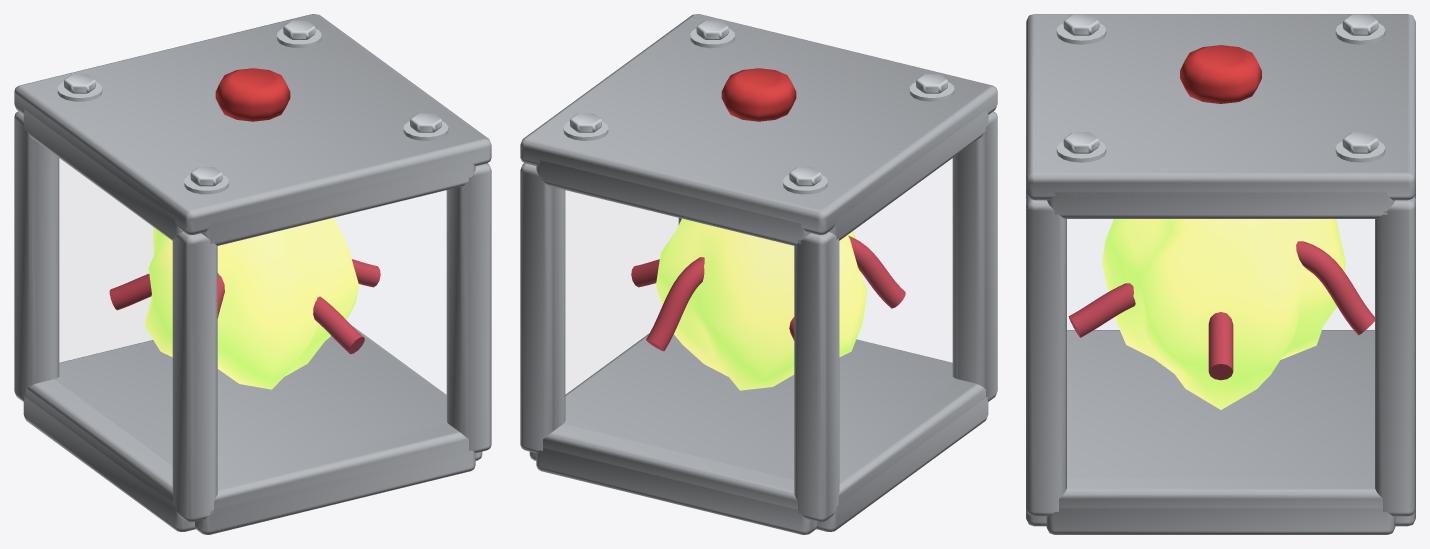
File: nucleo_zombi.glb
3 renders of one model, left to right at view 1: azimuth 30°, elevation 25°; view 2: azimuth 150°, elevation 25°; view 3: azimuth 270°, elevation 25°, orthographic. The views are drawn at different scales.
Visible parts, largest first — view 1: placa_tapa, placa_base, nucleo, arista_z-1-1, arista_z1-1, arista_z-11, arista_x-1-1, arista_x-11, arista_y-1-1, arista_y-11, tapa_valvula, vena4 (+2 smaller); view 2: placa_tapa, placa_base, nucleo, arista_z-11, arista_z11, arista_z-1-1, arista_x1-1, arista_x11, arista_y-1-1, arista_y-11, tapa_valvula, vena1 (+2 smaller); view 3: placa_tapa, placa_base, nucleo, arista_z11, arista_z1-1, arista_y1-1, arista_y11, tapa_valvula, vena1, vena4, vena0, base_t-1-1_cabeza (+7 smaller).
Boxes of the visible parts, box(x1,y1,x2,y2) form: placa_tapa: box(14, 14, 491, 234); placa_base: box(26, 326, 468, 509); nucleo: box(144, 217, 358, 389); arista_z-1-1: box(172, 232, 217, 521); arista_z1-1: box(446, 163, 491, 452); arista_z-11: box(14, 111, 59, 401); arista_x-1-1: box(195, 448, 475, 534); arista_x-11: box(201, 160, 475, 245); arista_y-1-1: box(23, 396, 195, 531); arista_y-11: box(23, 109, 182, 240); tapa_valvula: box(215, 68, 290, 121); vena4: box(313, 296, 364, 354); placa_tapa: box(520, 14, 997, 234); placa_base: box(543, 333, 985, 521); nucleo: box(656, 218, 867, 390); arista_z-11: box(794, 232, 839, 521); arista_z11: box(520, 163, 565, 452); arista_z-1-1: box(952, 111, 997, 401); arista_x1-1: box(536, 448, 816, 534); arista_x11: box(536, 160, 810, 245); arista_y-1-1: box(816, 396, 988, 531); arista_y-11: box(829, 109, 988, 240); tapa_valvula: box(721, 68, 796, 121); vena1: box(646, 257, 704, 351); placa_tapa: box(1026, 14, 1415, 200); placa_base: box(1059, 330, 1382, 511); nucleo: box(1102, 219, 1345, 409); arista_z11: box(1375, 197, 1415, 516); arista_z1-1: box(1026, 197, 1066, 516); arista_y1-1: box(1046, 508, 1395, 534); arista_y11: box(1047, 192, 1394, 218); tapa_valvula: box(1180, 45, 1261, 103); vena1: box(1296, 241, 1374, 335); vena4: box(1068, 283, 1135, 337); vena0: box(1208, 312, 1233, 380); base_t-1-1_cabeza: box(1063, 14, 1099, 35).
Bounding box in the file's own units: 0.038 × 0.043 × 0.038.
